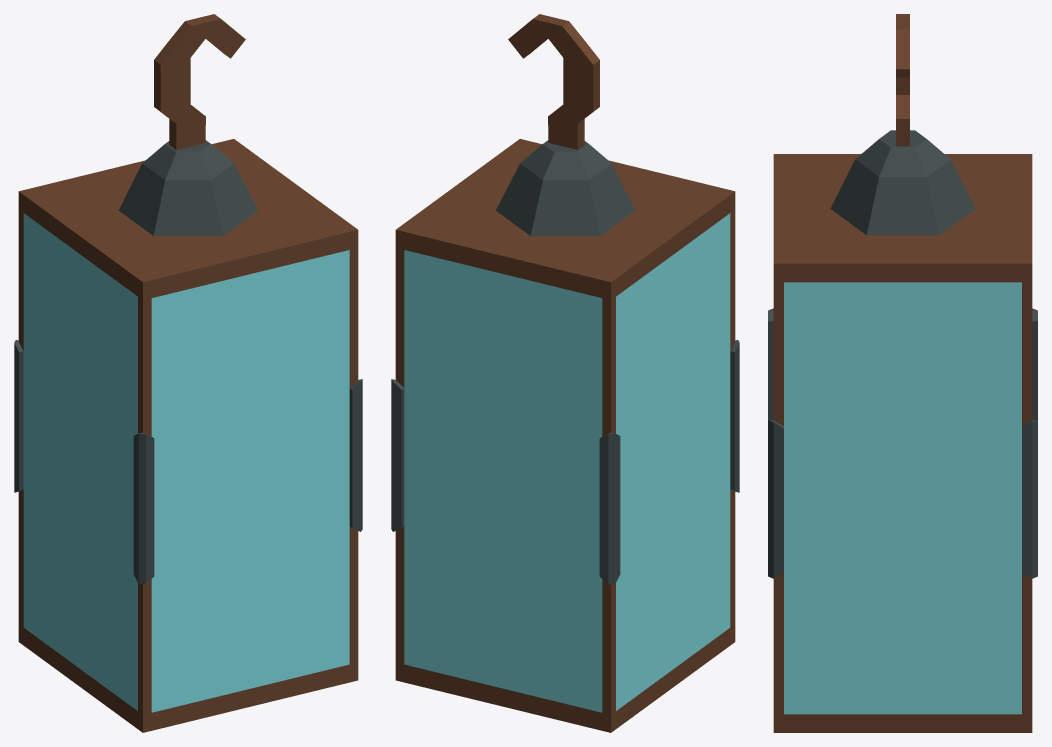
The model's file is Lamp_4_Blue.fbx.
3 views of the same model, side by side, from view 1: azimuth 30°, elevation 25°; view 2: azimuth 150°, elevation 25°; view 3: azimuth 270°, elevation 25° (orthographic). The views are drawn at different scales.
Parts seen in each view (by area): view 1: Lamp_4_Blue; view 2: Lamp_4_Blue; view 3: Lamp_4_Blue.
Boxes of the visible parts, x1,y1,x2,y2 form: Lamp_4_Blue: (14,14,362,732); Lamp_4_Blue: (391,14,739,732); Lamp_4_Blue: (768,14,1037,732).
Bounding box in the file's own units: 25 × 67.91 × 25.
